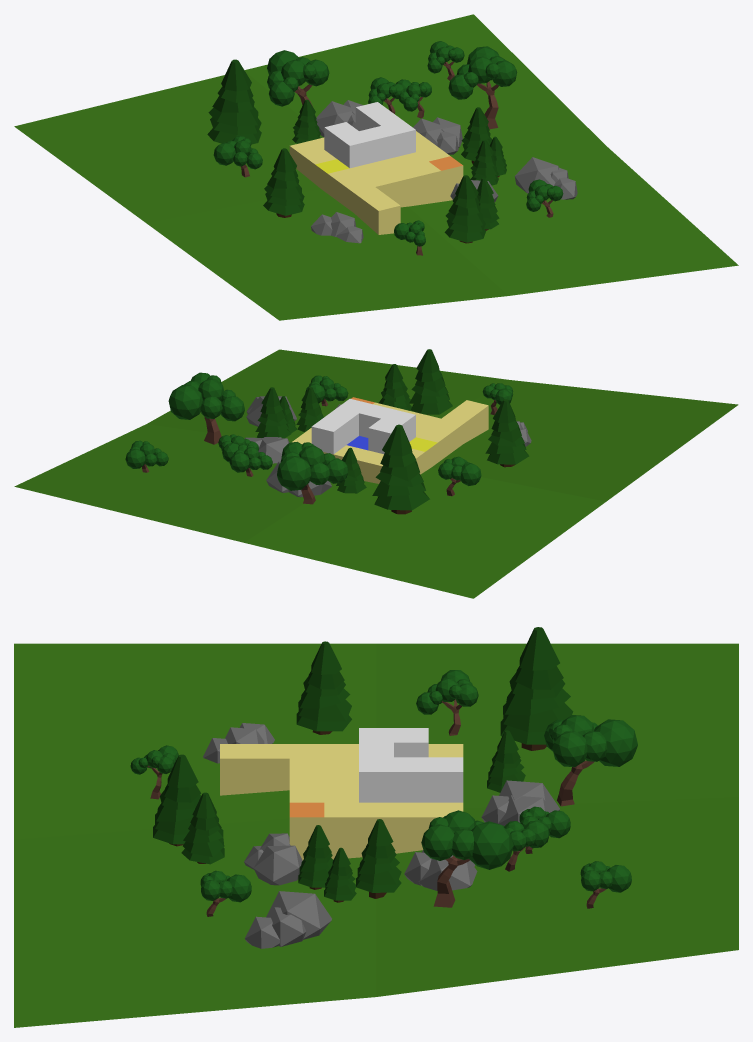
File: Cenario 1.fbx
3 views of the same model, one above another, from view 1: azimuth 30°, elevation 25°; view 2: azimuth 150°, elevation 25°; view 3: azimuth 270°, elevation 25° (orthographic). The views are drawn at different scales.
Parts seen in each view (by area): view 1: Cube.001, Cube, Cylinder, Cube.007, Cube.003, Cylinder.002, Cylinder.003, Cube.002, Cylinder.005, Icosphere.004, Cube.008, Cube.006 (+7 smaller); view 2: Cube.001, Cube, Cylinder, Cube.007, Cube.003, Cylinder.002, Cylinder.003, Cylinder.005, Cube.002, Cylinder.007, Cube.008, Cube.004 (+6 smaller); view 3: Cube.001, Cube, Cylinder, Cube.007, Cube.003, Cylinder.002, Cylinder.003, Cylinder.005, Cylinder.007, Cube.002, Icosphere.004, Icosphere.007 (+13 smaller).
Boxes of the visible parts, <box> form: Cube.001: <box>14,14,738,320</box>; Cube: <box>289,102,463,234</box>; Cylinder: <box>207,59,261,144</box>; Cube.007: <box>448,46,517,129</box>; Cube.003: <box>267,50,329,106</box>; Cylinder.002: <box>263,148,304,217</box>; Cylinder.003: <box>444,175,485,243</box>; Cube.002: <box>213,135,262,177</box>; Cylinder.005: <box>461,107,492,163</box>; Icosphere.004: <box>514,157,558,193</box>; Cube.008: <box>427,41,464,80</box>; Cube.006: <box>526,179,563,217</box>; Cube.001: <box>14,349,738,598</box>; Cube: <box>292,397,488,483</box>; Cylinder: <box>372,424,429,514</box>; Cube.007: <box>168,372,244,444</box>; Cube.003: <box>277,441,348,504</box>; Cylinder.002: <box>485,399,529,467</box>; Cylinder.003: <box>409,349,452,414</box>; Cylinder.005: <box>255,387,291,438</box>; Cube.002: <box>438,456,481,496</box>; Cylinder.007: <box>378,364,411,410</box>; Cube.008: <box>125,440,168,472</box>; Cube.004: <box>229,444,272,476</box>; Cube.001: <box>14,643,738,1027</box>; Cube: <box>220,728,463,860</box>; Cylinder: <box>500,627,573,750</box>; Cube.007: <box>421,810,513,907</box>; Cube.003: <box>544,715,637,806</box>; Cylinder.002: <box>296,641,351,734</box>; Cylinder.003: <box>153,754,201,846</box>; Cylinder.005: <box>356,819,401,898</box>; Cylinder.007: <box>181,792,224,864</box>; Cube.002: <box>416,670,478,735</box>; Icosphere.004: <box>266,891,331,939</box>; Icosphere.007: <box>253,845,302,885</box>.
Bounding box in the file's own units: 4648 × 1384 × 4648.
